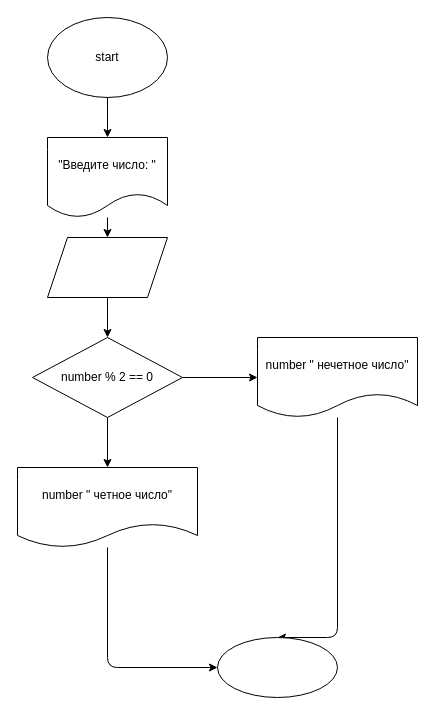
Some shapes in this 435 by 715 pixel diagram are drawn without their labels. The shapes that lost their labels are listed below. From the top down, each one's centre as x and y in pixels, then its label:
At point (107, 267): "number".
At point (277, 667): "end".
